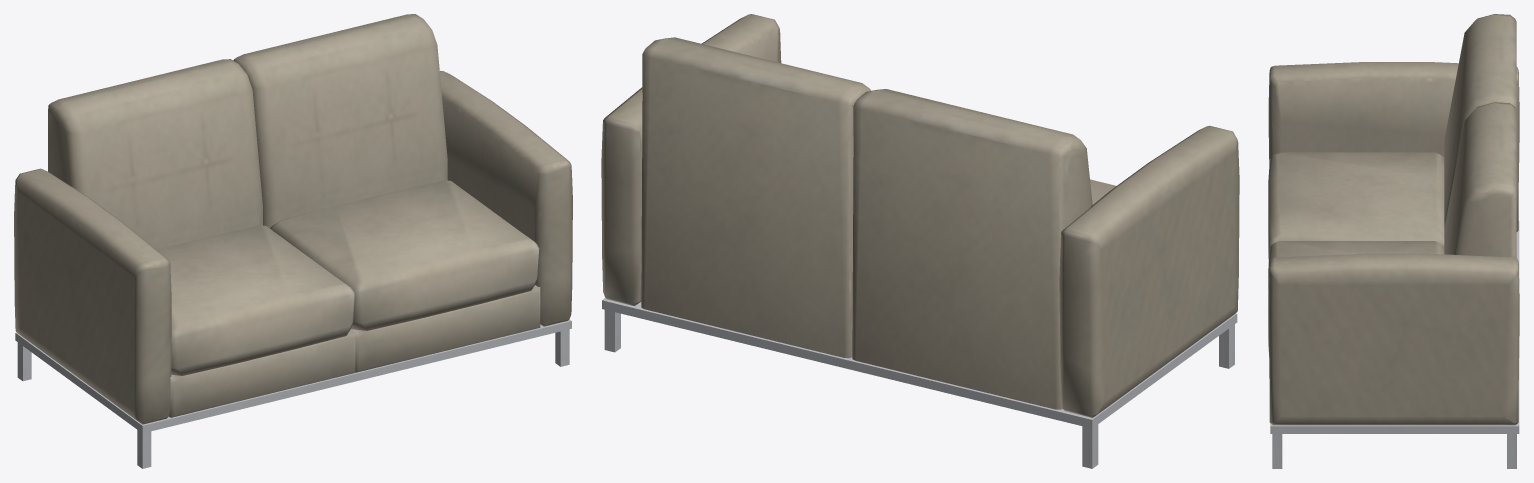
The model's file is Couch_Fabric_2seat.FBX.
3 views of the same model, side by side, from view 1: azimuth 30°, elevation 25°; view 2: azimuth 150°, elevation 25°; view 3: azimuth 270°, elevation 25° (orthographic). The views are drawn at different scales.
Parts seen in each view (by area): view 1: Couch_Fabric_2seat; view 2: Couch_Fabric_2seat; view 3: Couch_Fabric_2seat.
Boxes of the visible parts, x1=… form: Couch_Fabric_2seat: x1=14, y1=14, x2=572, y2=468; Couch_Fabric_2seat: x1=601, y1=14, x2=1239, y2=468; Couch_Fabric_2seat: x1=1268, y1=14, x2=1519, y2=468.
Size of the model in its own units: 158 by 94.95 by 80.8.
